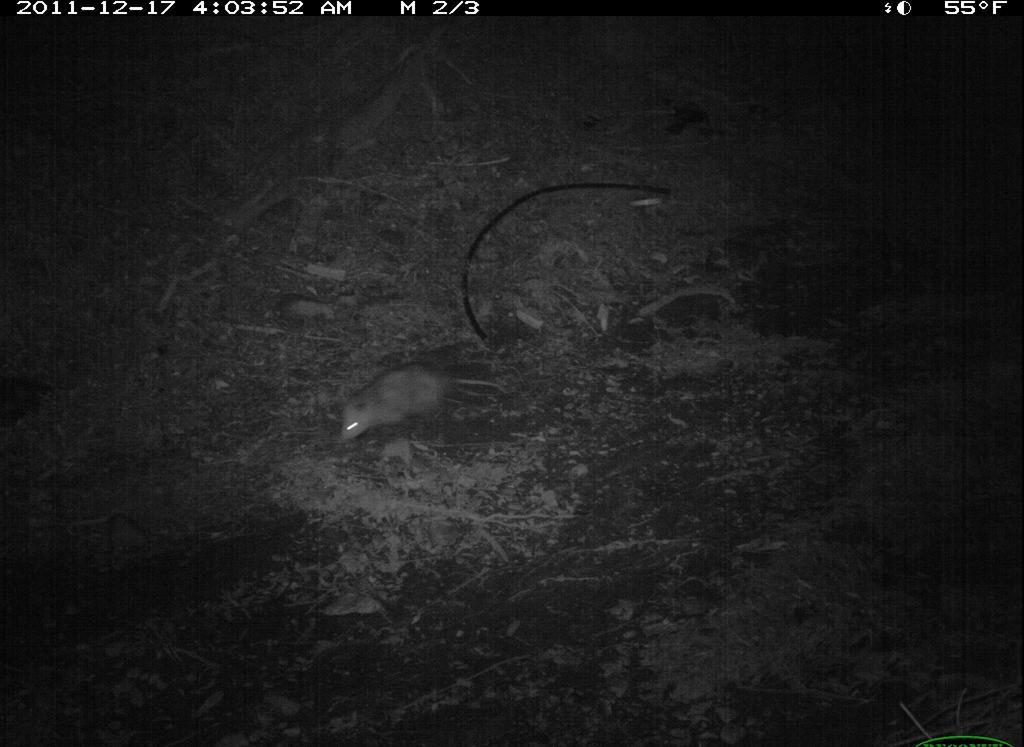opossum: (327, 364, 510, 446)
